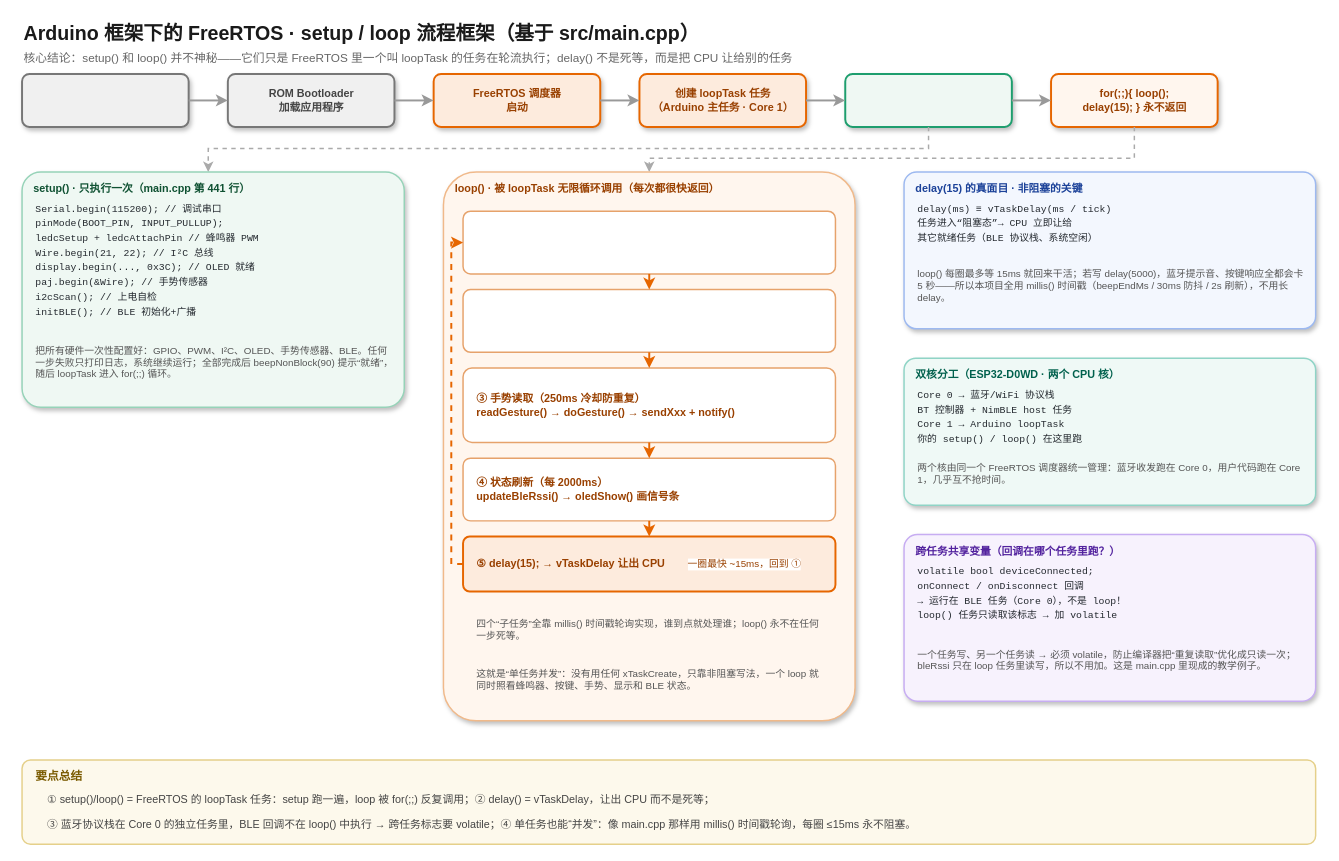
The diagram is 1339 pixels wide and 861 high, and some of its shapes have lost their labels. Here are the shapes that lost their labels. From the top down, the centre of each, then its label:
(106,101): 上电 / 复位
(929,101): setup() 执行一次
(649,242): ① 蜂鸣器到点关闭 millis() ≥ beepEndMs → ledcWrite(0, 0)
(649,320): ② BOOT 键 30ms 稳定防抖 确认 LOW → 切换模式 + beepNonBlock(70)
